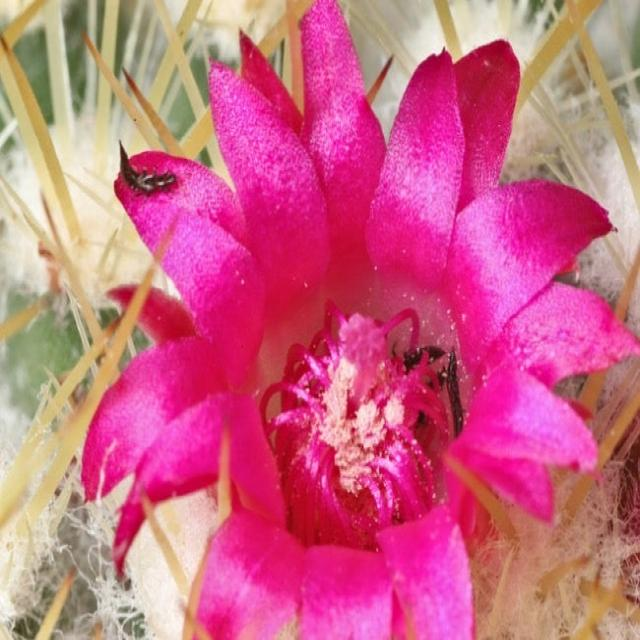Thrip-Adult-: (118, 144, 184, 197), (442, 340, 472, 449)
